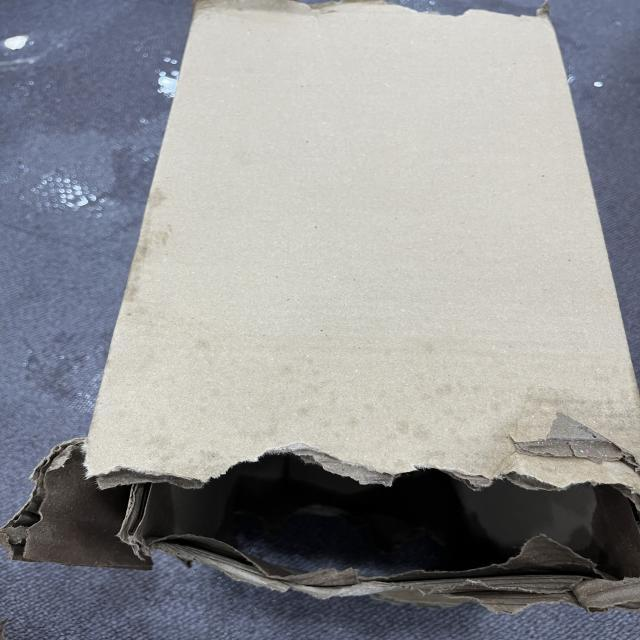hole: (22, 450, 640, 597)
